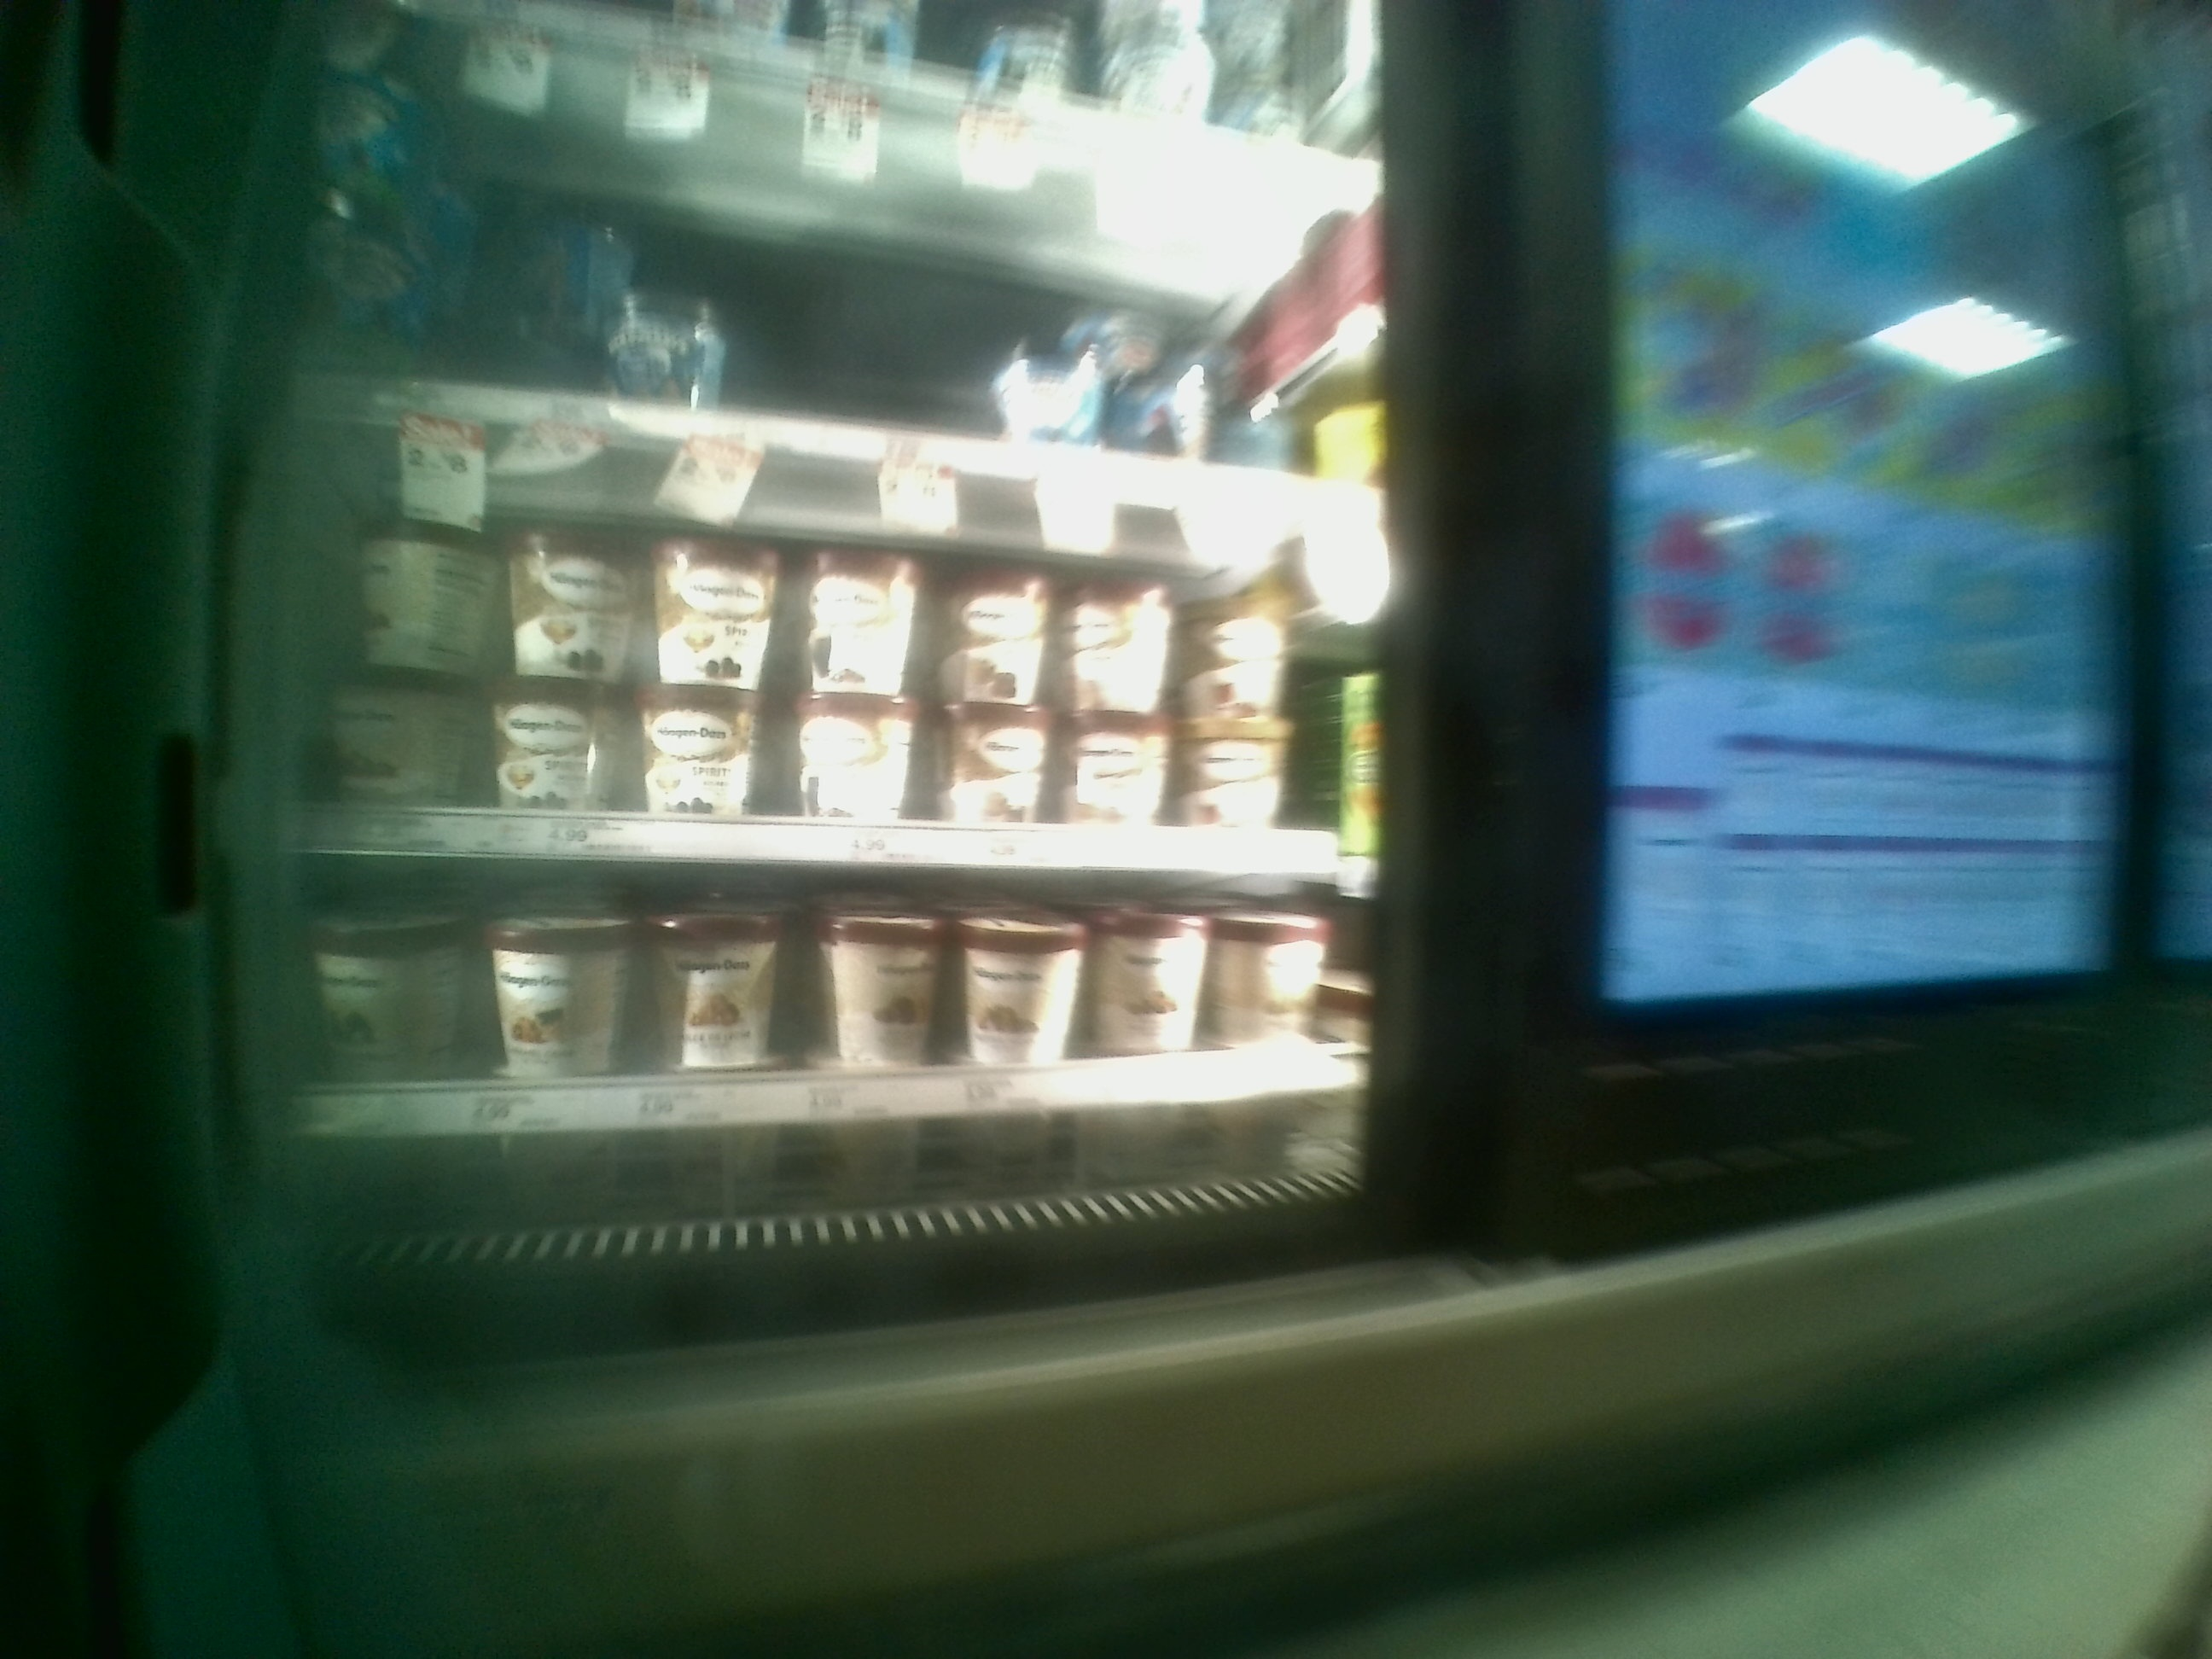shelf: (289, 420, 1343, 864), (294, 877, 1393, 1199)
